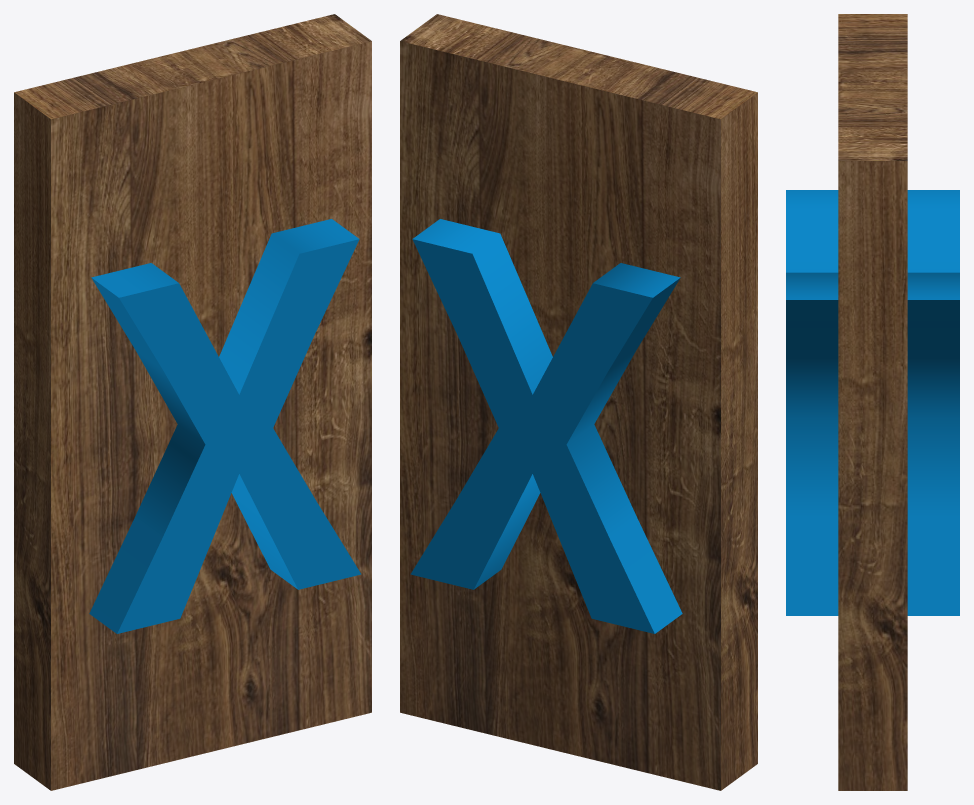
Rendered from wood_X.fbx.
3 views of the same model, side by side, from view 1: azimuth 30°, elevation 25°; view 2: azimuth 150°, elevation 25°; view 3: azimuth 270°, elevation 25° (orthographic). The views are drawn at different scales.
Visible parts, largest first — view 1: Box001, Box002; view 2: Box001, Box002; view 3: Box001, Box002.
Part boxes in pixels (<box>): Box001: <box>14,14,371,790</box>; Box002: <box>89,219,361,633</box>; Box001: <box>400,14,757,790</box>; Box002: <box>410,219,682,633</box>; Box001: <box>838,14,907,790</box>; Box002: <box>786,190,959,615</box>.
Bounding box in the file's own units: 78.74 × 39.37 × 157.
2 materials, 2 textured.
